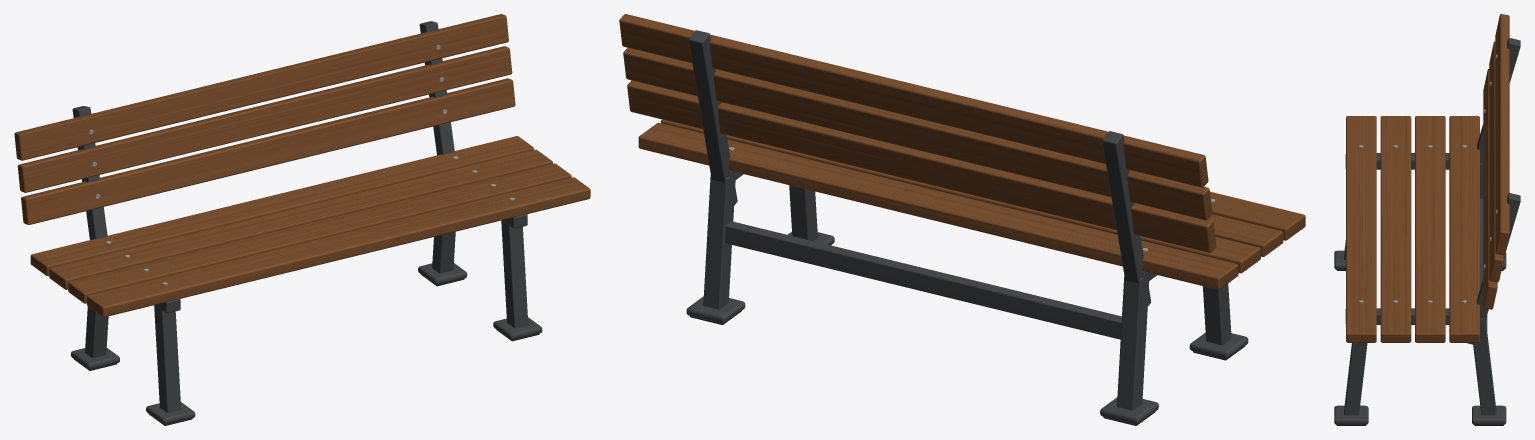
File: park_bench.glb
3 renders of one model, left to right at view 1: azimuth 30°, elevation 25°; view 2: azimuth 150°, elevation 25°; view 3: azimuth 270°, elevation 25°, orthographic. The views are drawn at different scales.
Visible parts, largest first — view 1: Back timber slat 02, Back timber slat 01, Back timber slat 00, Seat timber slat 00, Seat timber slat 02, Seat timber slat 01, Seat timber slat 03, Splayed steel leg.002, Splayed steel leg, Splayed steel leg.001, Backrest upright.001, Backrest upright (+5 smaller); view 2: Back timber slat 02, Back timber slat 00, Back timber slat 01, Seat timber slat 03, Lower transverse stiffener, Seat timber slat 02, Splayed steel leg.001, Splayed steel leg.003, Backrest upright, Backrest upright.001, Seat timber slat 00, Seat timber slat 01 (+5 smaller); view 3: Seat timber slat 01, Seat timber slat 00, Seat timber slat 02, Seat timber slat 03, Back timber slat 02, Back timber slat 01, Back timber slat 00, Splayed steel leg.003, Splayed steel leg.002, Backrest upright.001, Foot plate.002, Foot plate.003 (+5 smaller).
Part boxes in pixels (x1,y1,x2,y2): Back timber slat 02: [14, 14, 508, 160]; Back timber slat 01: [17, 46, 512, 192]; Back timber slat 00: [21, 78, 515, 224]; Seat timber slat 00: [87, 177, 590, 317]; Seat timber slat 02: [49, 149, 552, 289]; Seat timber slat 01: [68, 163, 571, 303]; Seat timber slat 03: [30, 136, 533, 275]; Splayed steel leg.002: [501, 220, 528, 328]; Splayed steel leg: [154, 305, 181, 412]; Splayed steel leg.001: [85, 306, 108, 358]; Backrest upright.001: [419, 21, 454, 155]; Backrest upright: [72, 106, 107, 239]; Back timber slat 02: [619, 14, 1208, 187]; Back timber slat 00: [627, 80, 1216, 252]; Back timber slat 01: [623, 48, 1212, 220]; Seat timber slat 03: [638, 122, 1238, 289]; Lower transverse stiffener: [725, 221, 1121, 339]; Seat timber slat 02: [661, 119, 1260, 273]; Splayed steel leg.001: [1117, 276, 1149, 410]; Splayed steel leg.003: [703, 175, 735, 309]; Backrest upright: [1102, 131, 1151, 305]; Backrest upright.001: [688, 30, 737, 205]; Seat timber slat 00: [1210, 191, 1305, 240]; Seat timber slat 01: [1208, 214, 1283, 256]; Seat timber slat 01: [1380, 116, 1411, 342]; Seat timber slat 00: [1346, 116, 1376, 342]; Seat timber slat 02: [1415, 116, 1445, 342]; Seat timber slat 03: [1449, 116, 1479, 342]; Back timber slat 02: [1495, 14, 1509, 254]; Back timber slat 01: [1489, 41, 1503, 282]; Back timber slat 00: [1483, 69, 1497, 309]; Splayed steel leg.003: [1473, 318, 1496, 415]; Splayed steel leg.002: [1344, 343, 1367, 415]; Backrest upright.001: [1467, 193, 1520, 344]; Foot plate.002: [1334, 405, 1368, 424]; Foot plate.003: [1472, 405, 1506, 424].
Bounding box in the file's own units: 1.8 × 0.8648 × 0.6507.
Materials: 5 (3 with a texture image).
